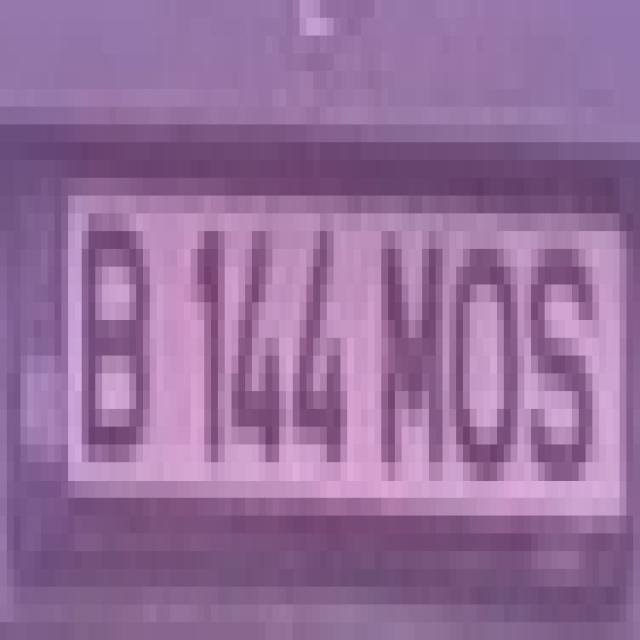Autre: (67, 177, 633, 520)
